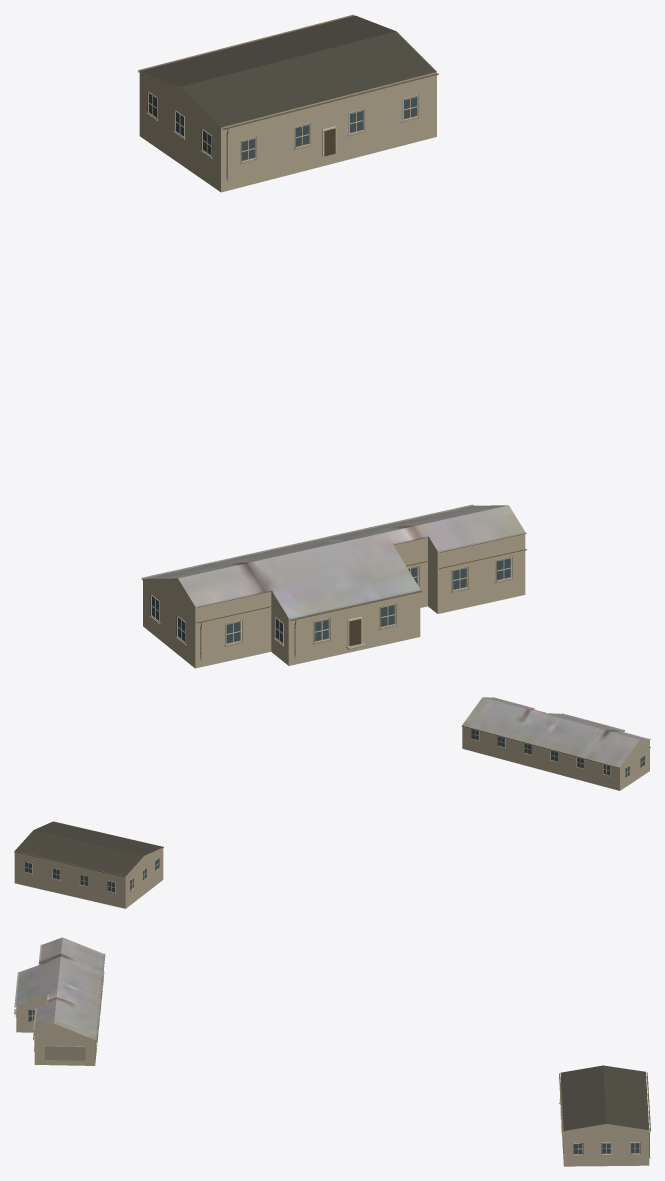
The picture shows the model from 3 angles, top to bottom: view 1: azimuth 30°, elevation 25°; view 2: azimuth 150°, elevation 25°; view 3: azimuth 270°, elevation 25°; orthographic projection. The views are drawn at different scales.
Parts seen in each view (by area): view 1: 5_1_632642721_0, 5_1_632642726_1; view 2: 5_1_632642721_0, 5_1_632642726_1; view 3: 5_1_632642721_0, 5_1_632642726_1.
Part boxes in pixels (x1=…): 5_1_632642721_0: x1=138, y1=14, x2=526, y2=668; 5_1_632642726_1: x1=140, y1=15, x2=436, y2=127; 5_1_632642721_0: x1=14, y1=697, x2=650, y2=908; 5_1_632642726_1: x1=15, y1=822, x2=162, y2=876; 5_1_632642721_0: x1=14, y1=937, x2=650, y2=1166; 5_1_632642726_1: x1=560, y1=1065, x2=649, y2=1130.
Bounding box in the file's own units: 65.09 × 7.28 × 91.02.
Materials: 11 (1 with a texture image).
